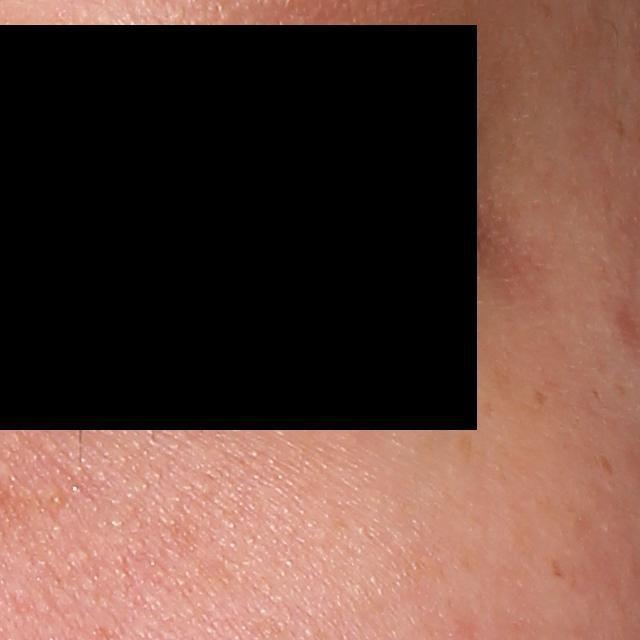melasma: (457, 429, 475, 466), (550, 553, 569, 580), (594, 452, 614, 475), (533, 386, 550, 409)
